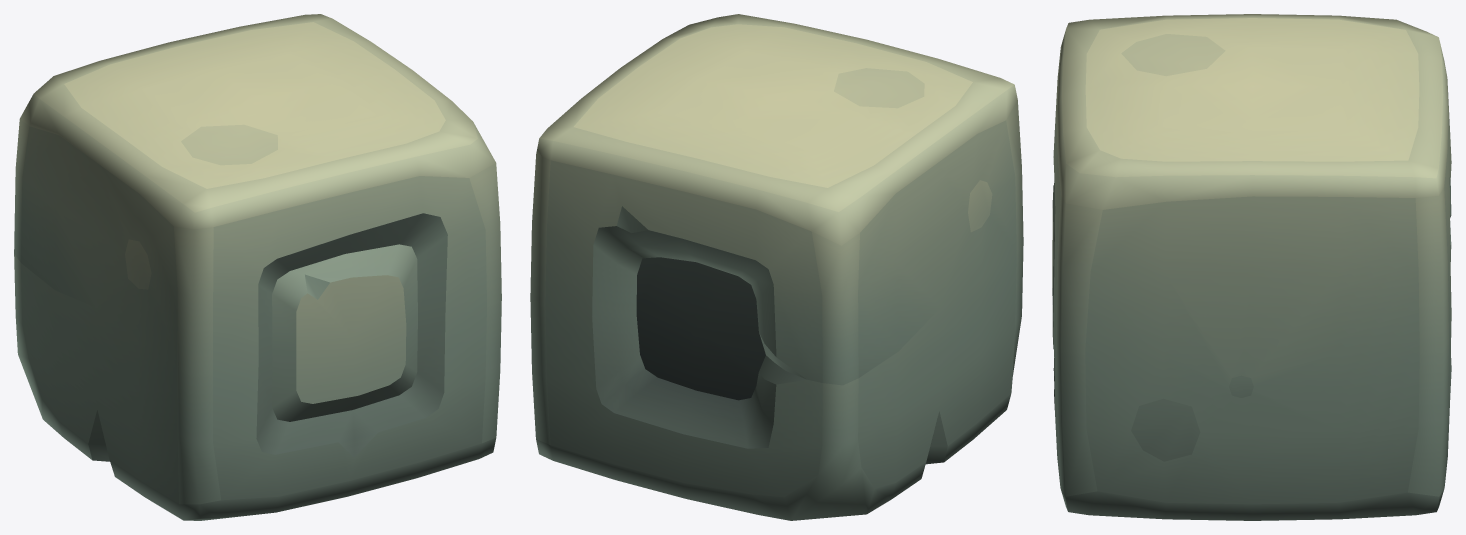
The model's file is block_stone1_8_LOD_group.fbx.
3 views of the same model, side by side, from view 1: azimuth 30°, elevation 25°; view 2: azimuth 150°, elevation 25°; view 3: azimuth 270°, elevation 25° (orthographic). The views are drawn at different scales.
Parts seen in each view (by area): view 1: block_stone1_8_LOD0; view 2: block_stone1_8_LOD0; view 3: block_stone1_8_LOD0.
Part boxes in pixels (bbox=[...]): block_stone1_8_LOD0: bbox=[14, 14, 501, 520]; block_stone1_8_LOD0: bbox=[530, 14, 1023, 520]; block_stone1_8_LOD0: bbox=[1052, 14, 1451, 520].
Size of what is drawn, in the model's own units: 109 by 109 by 109.
Materials: 1 (1 with a texture image).
